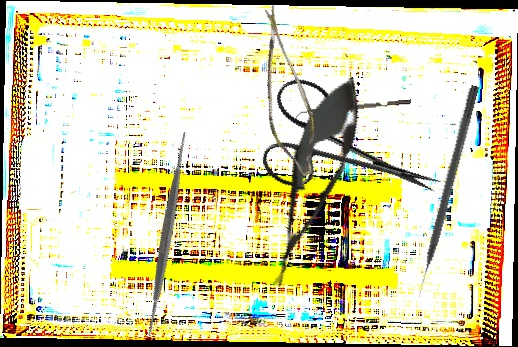Chopper: (294, 99, 412, 120)
Iris Scissors: (249, 72, 458, 235)
Micro Scissor: (250, 66, 376, 296), (224, 2, 343, 182)
Pusher: (411, 84, 481, 298)
Spatula Surgical: (57, 124, 278, 344)
